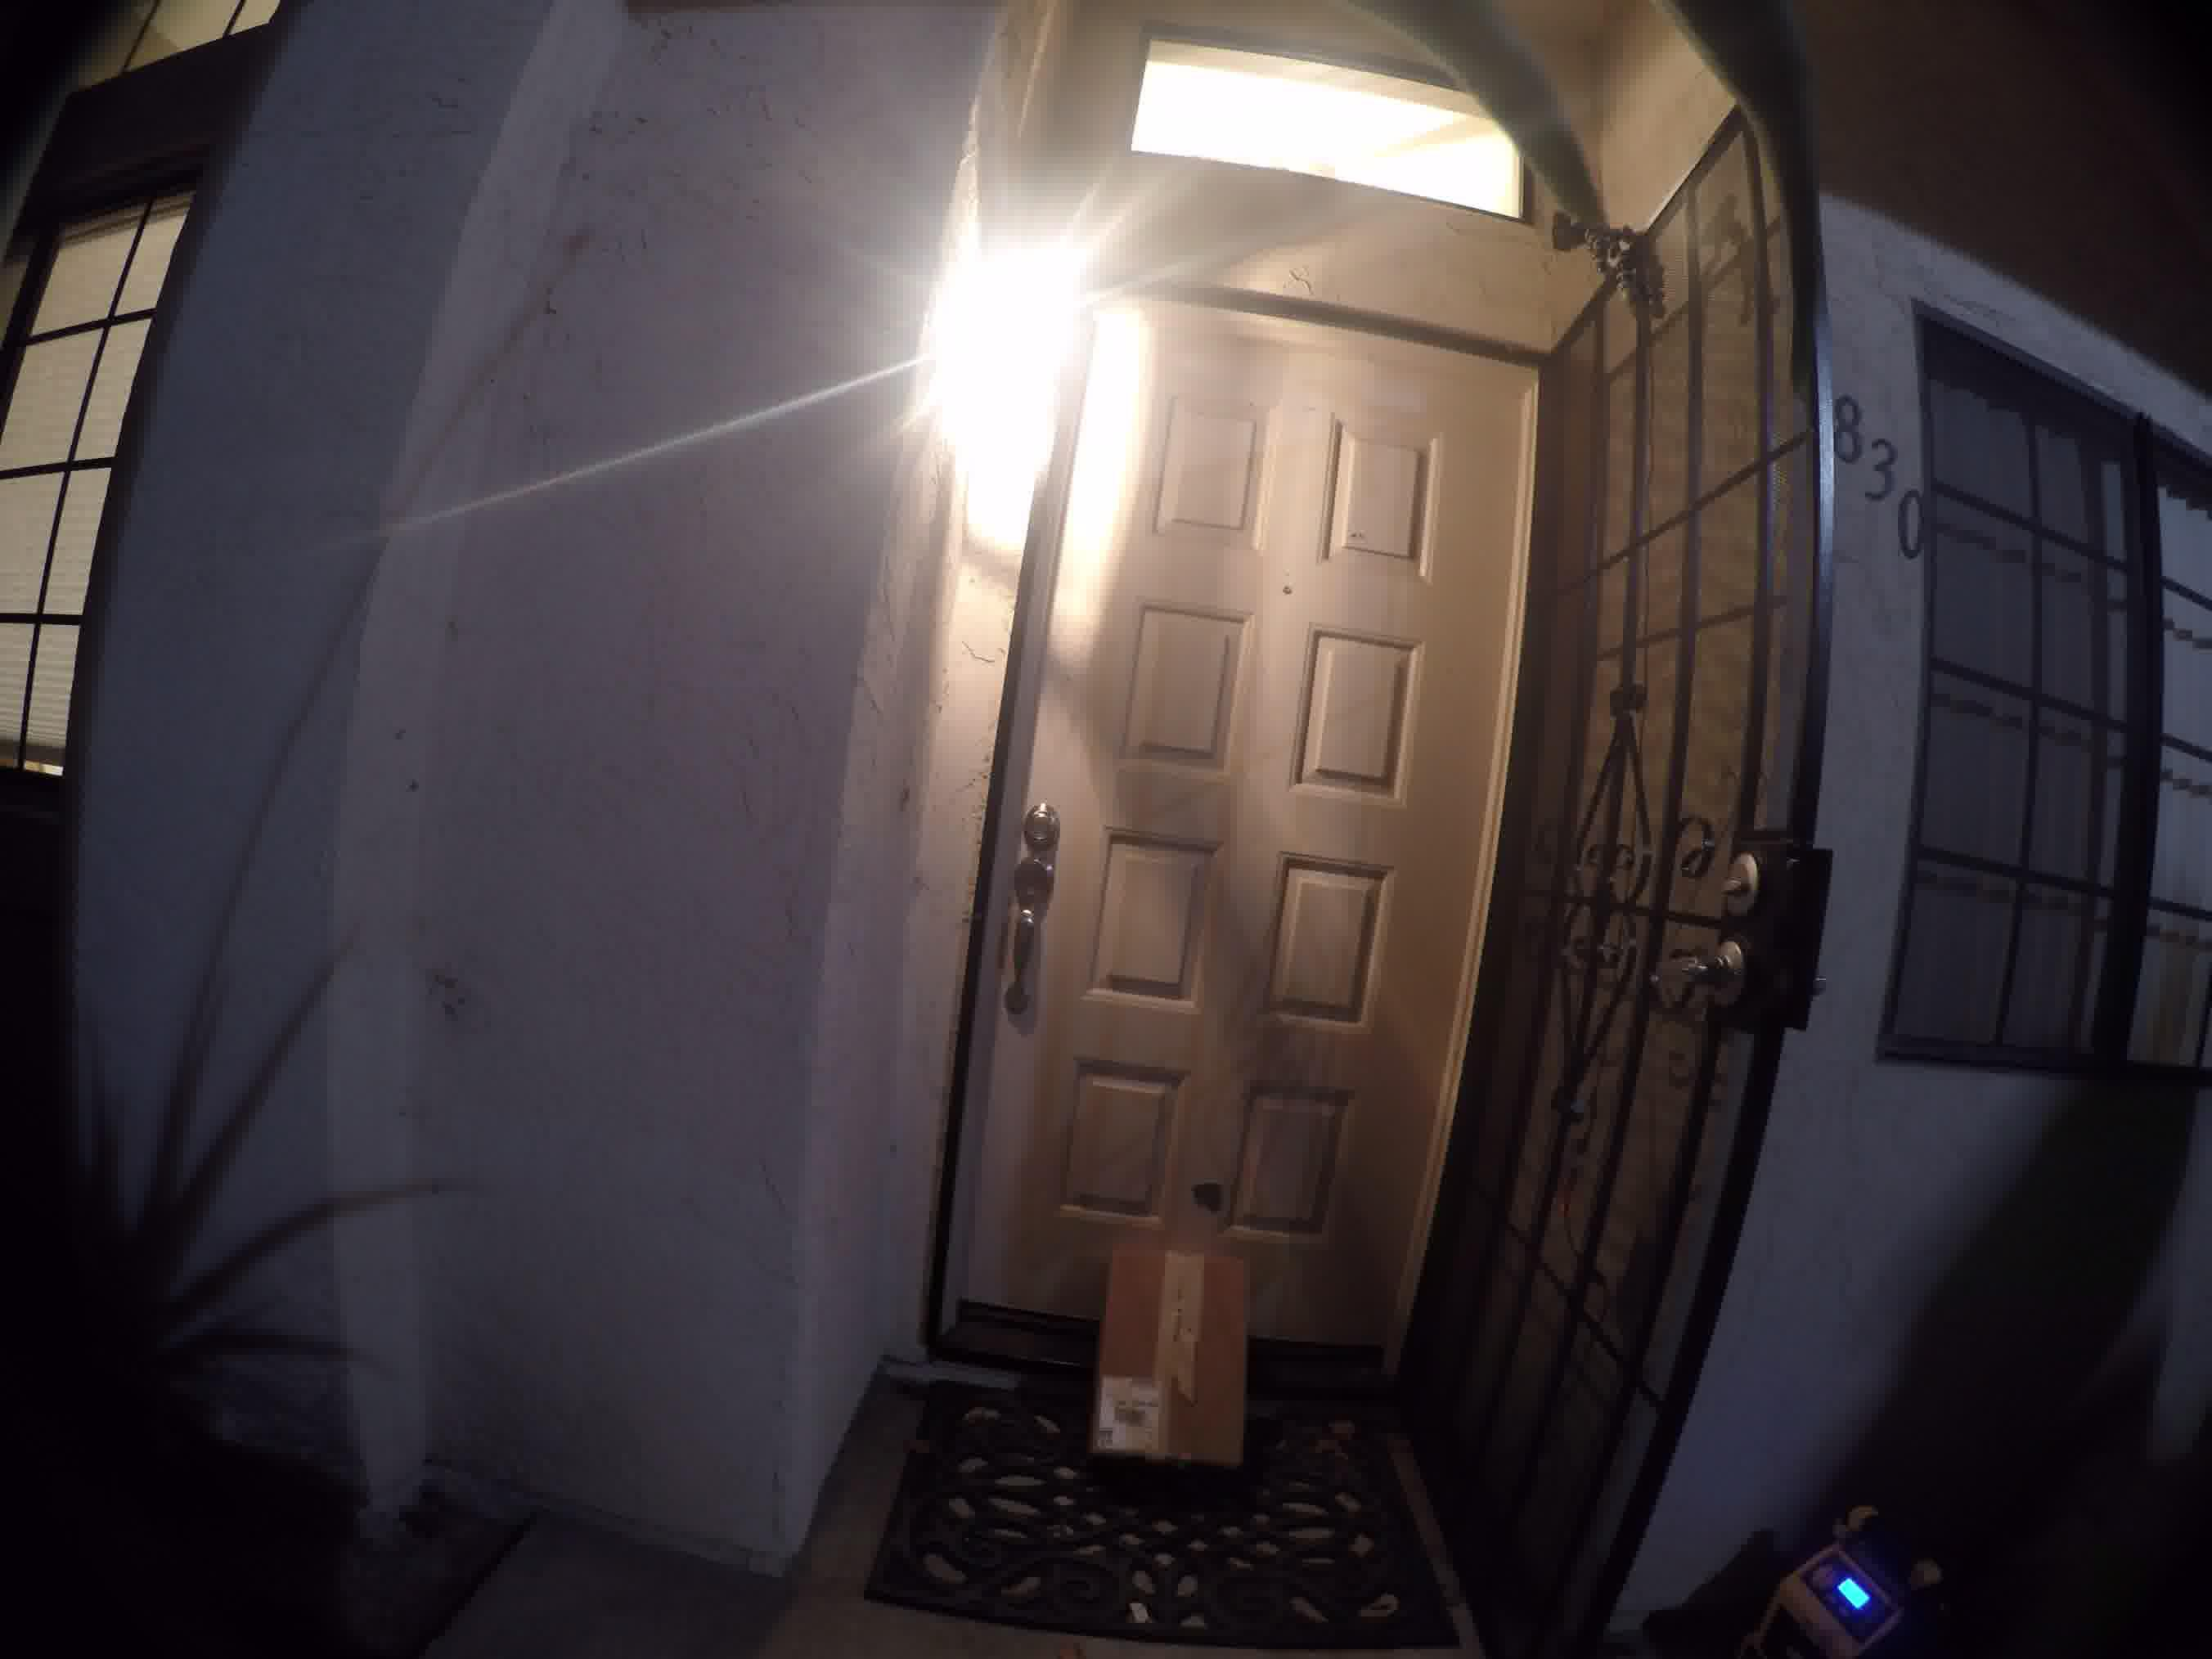box: (1109, 1227, 1278, 1467)
